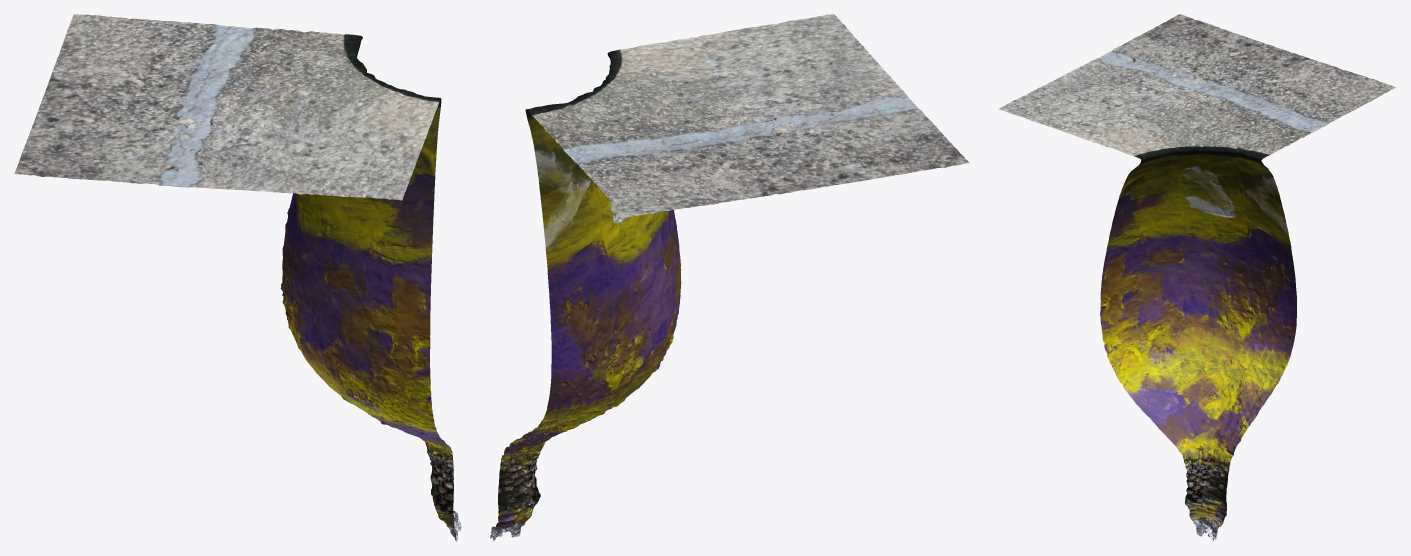
Rendered from tile_1_2.obj.
3 renders of one model, left to right at view 1: azimuth 30°, elevation 25°; view 2: azimuth 150°, elevation 25°; view 3: azimuth 270°, elevation 25°, orthographic. The views are drawn at different scales.
Visible parts, largest first — view 1: texture_0; view 2: texture_0; view 3: texture_0.
Boxes of the visible parts, x1,y1,x2,y2 form: texture_0: (14,14,461,541); texture_0: (490,14,969,541); texture_0: (998,14,1395,541).
Bounding box in the file's own units: 0.5084 × 0.5057 × 0.5063.
1 material, 1 textured.
